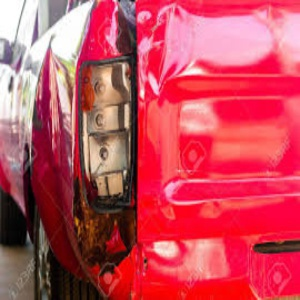tail_lights: (73, 53, 140, 234)
